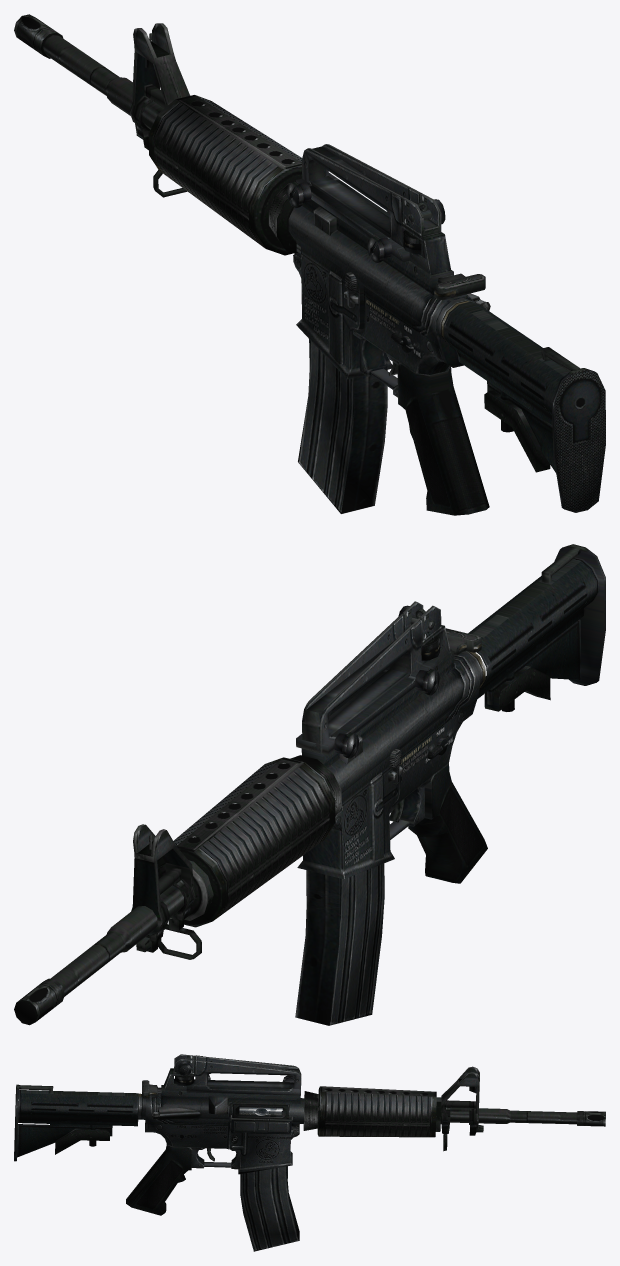
Rendered from world.glb.
3 views of the same model, one above another, from view 1: azimuth 30°, elevation 25°; view 2: azimuth 150°, elevation 25°; view 3: azimuth 270°, elevation 25° (orthographic). The views are drawn at different scales.
Parts seen in each view (by area): view 1: cf-vanilla-m4a1-world; view 2: cf-vanilla-m4a1-world; view 3: cf-vanilla-m4a1-world.
Part boxes in pixels (x1=…): cf-vanilla-m4a1-world: x1=14, y1=14, x2=605, y2=515; cf-vanilla-m4a1-world: x1=14, y1=544, x2=605, y2=1025; cf-vanilla-m4a1-world: x1=14, y1=1054, x2=605, y2=1251.
Bounding box in the file's own units: 0.0689 × 0.2909 × 0.82.
1 material, 1 textured.
